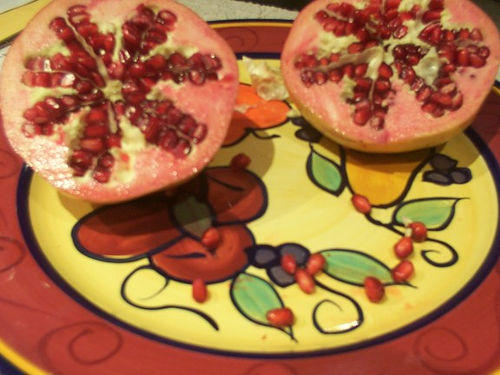pomogranate: (1, 1, 242, 209), (277, 0, 499, 150)
